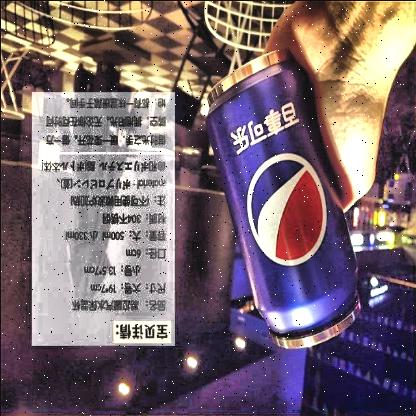Can: (197, 43, 361, 351)
